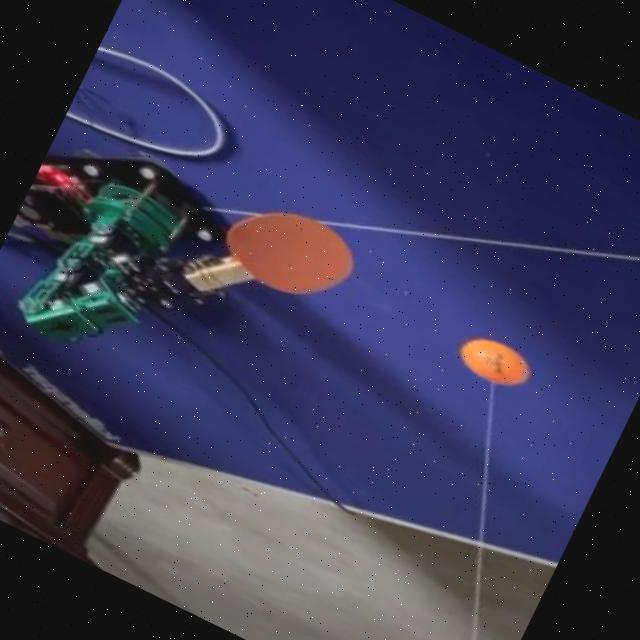ping-pong-ball: (453, 332, 538, 397)
